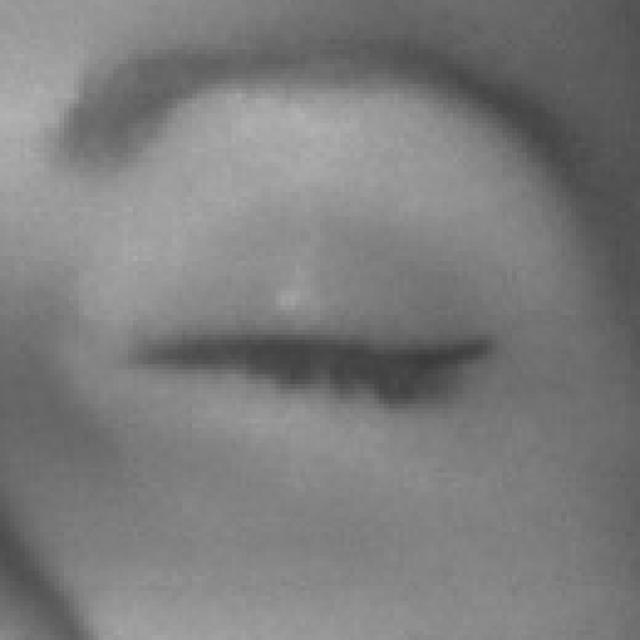close: (10, 0, 635, 551)
